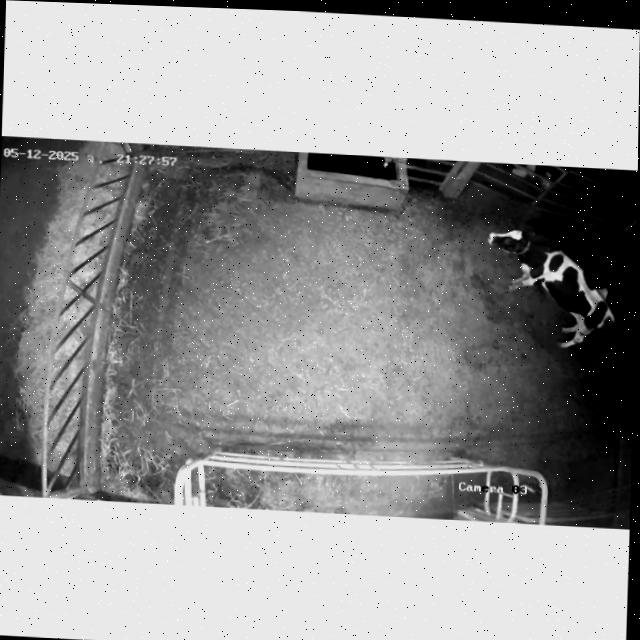stand: (462, 212, 626, 366)
